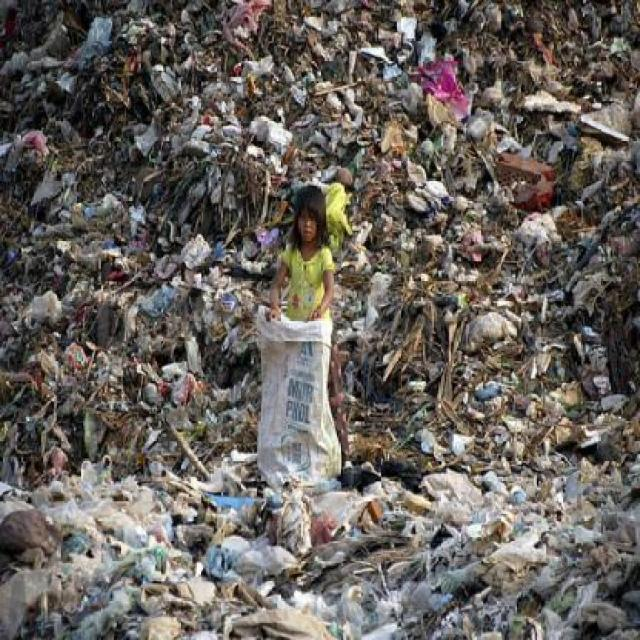garbage: (3, 3, 257, 634), (337, 8, 640, 490), (261, 341, 640, 639), (188, 0, 337, 165)
